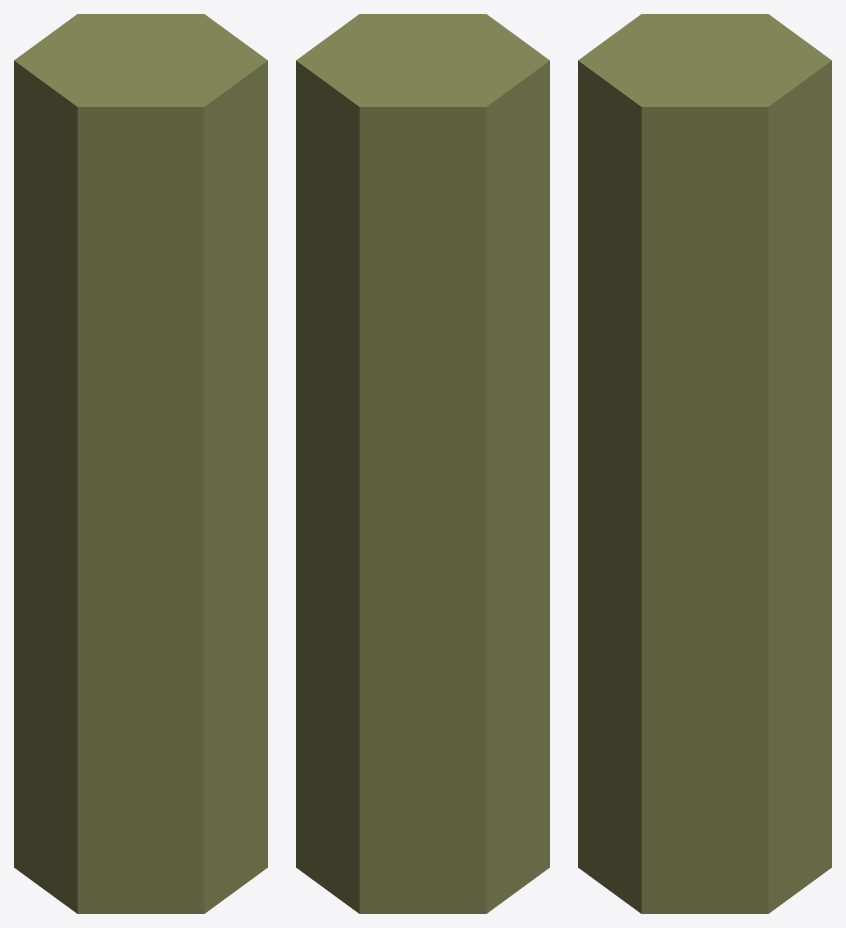
The model's file is tracking_object_2.dae.
3 renders of one model, left to right at view 1: azimuth 30°, elevation 25°; view 2: azimuth 150°, elevation 25°; view 3: azimuth 270°, elevation 25°, orthographic.
Parts seen in each view (by area): view 1: Cylinder; view 2: Cylinder; view 3: Cylinder.
Part boxes in pixels (x1,y1,x2,y2): Cylinder: [14, 14, 267, 913]; Cylinder: [296, 14, 549, 913]; Cylinder: [578, 14, 831, 913].
Bounding box in the file's own units: 0.6175 × 0.7131 × 2.5.
